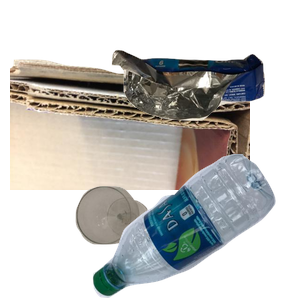cardboard: (10, 57, 250, 237)
glass: (73, 184, 214, 300)
plastic: (90, 154, 300, 300)
trash: (109, 47, 300, 160)
